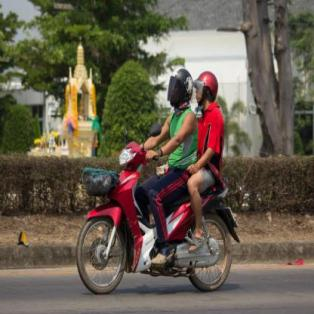Motocicleta: (72, 123, 234, 300)
